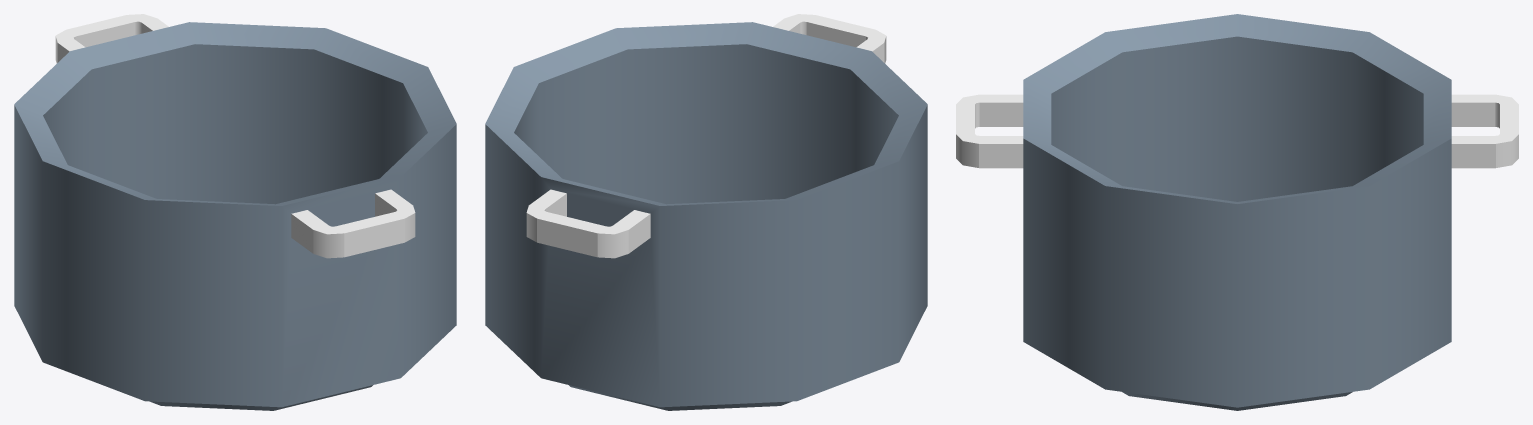
File: pot.obj
3 views of the same model, side by side, from view 1: azimuth 30°, elevation 25°; view 2: azimuth 150°, elevation 25°; view 3: azimuth 270°, elevation 25° (orthographic).
Parts seen in each view (by area): view 1: pot; view 2: pot; view 3: pot.
Boxes of the visible parts, x1,y1,x2,y2 form: pot: [14, 14, 456, 410]; pot: [485, 14, 927, 410]; pot: [956, 14, 1518, 410].
Bounding box in the file's own units: 0.6574 × 0.3608 × 0.8221.
